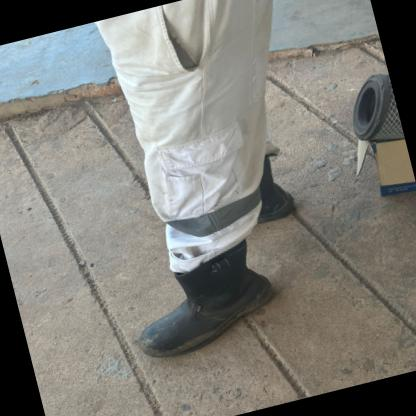bota: (92, 226, 298, 370), (238, 146, 302, 228)
